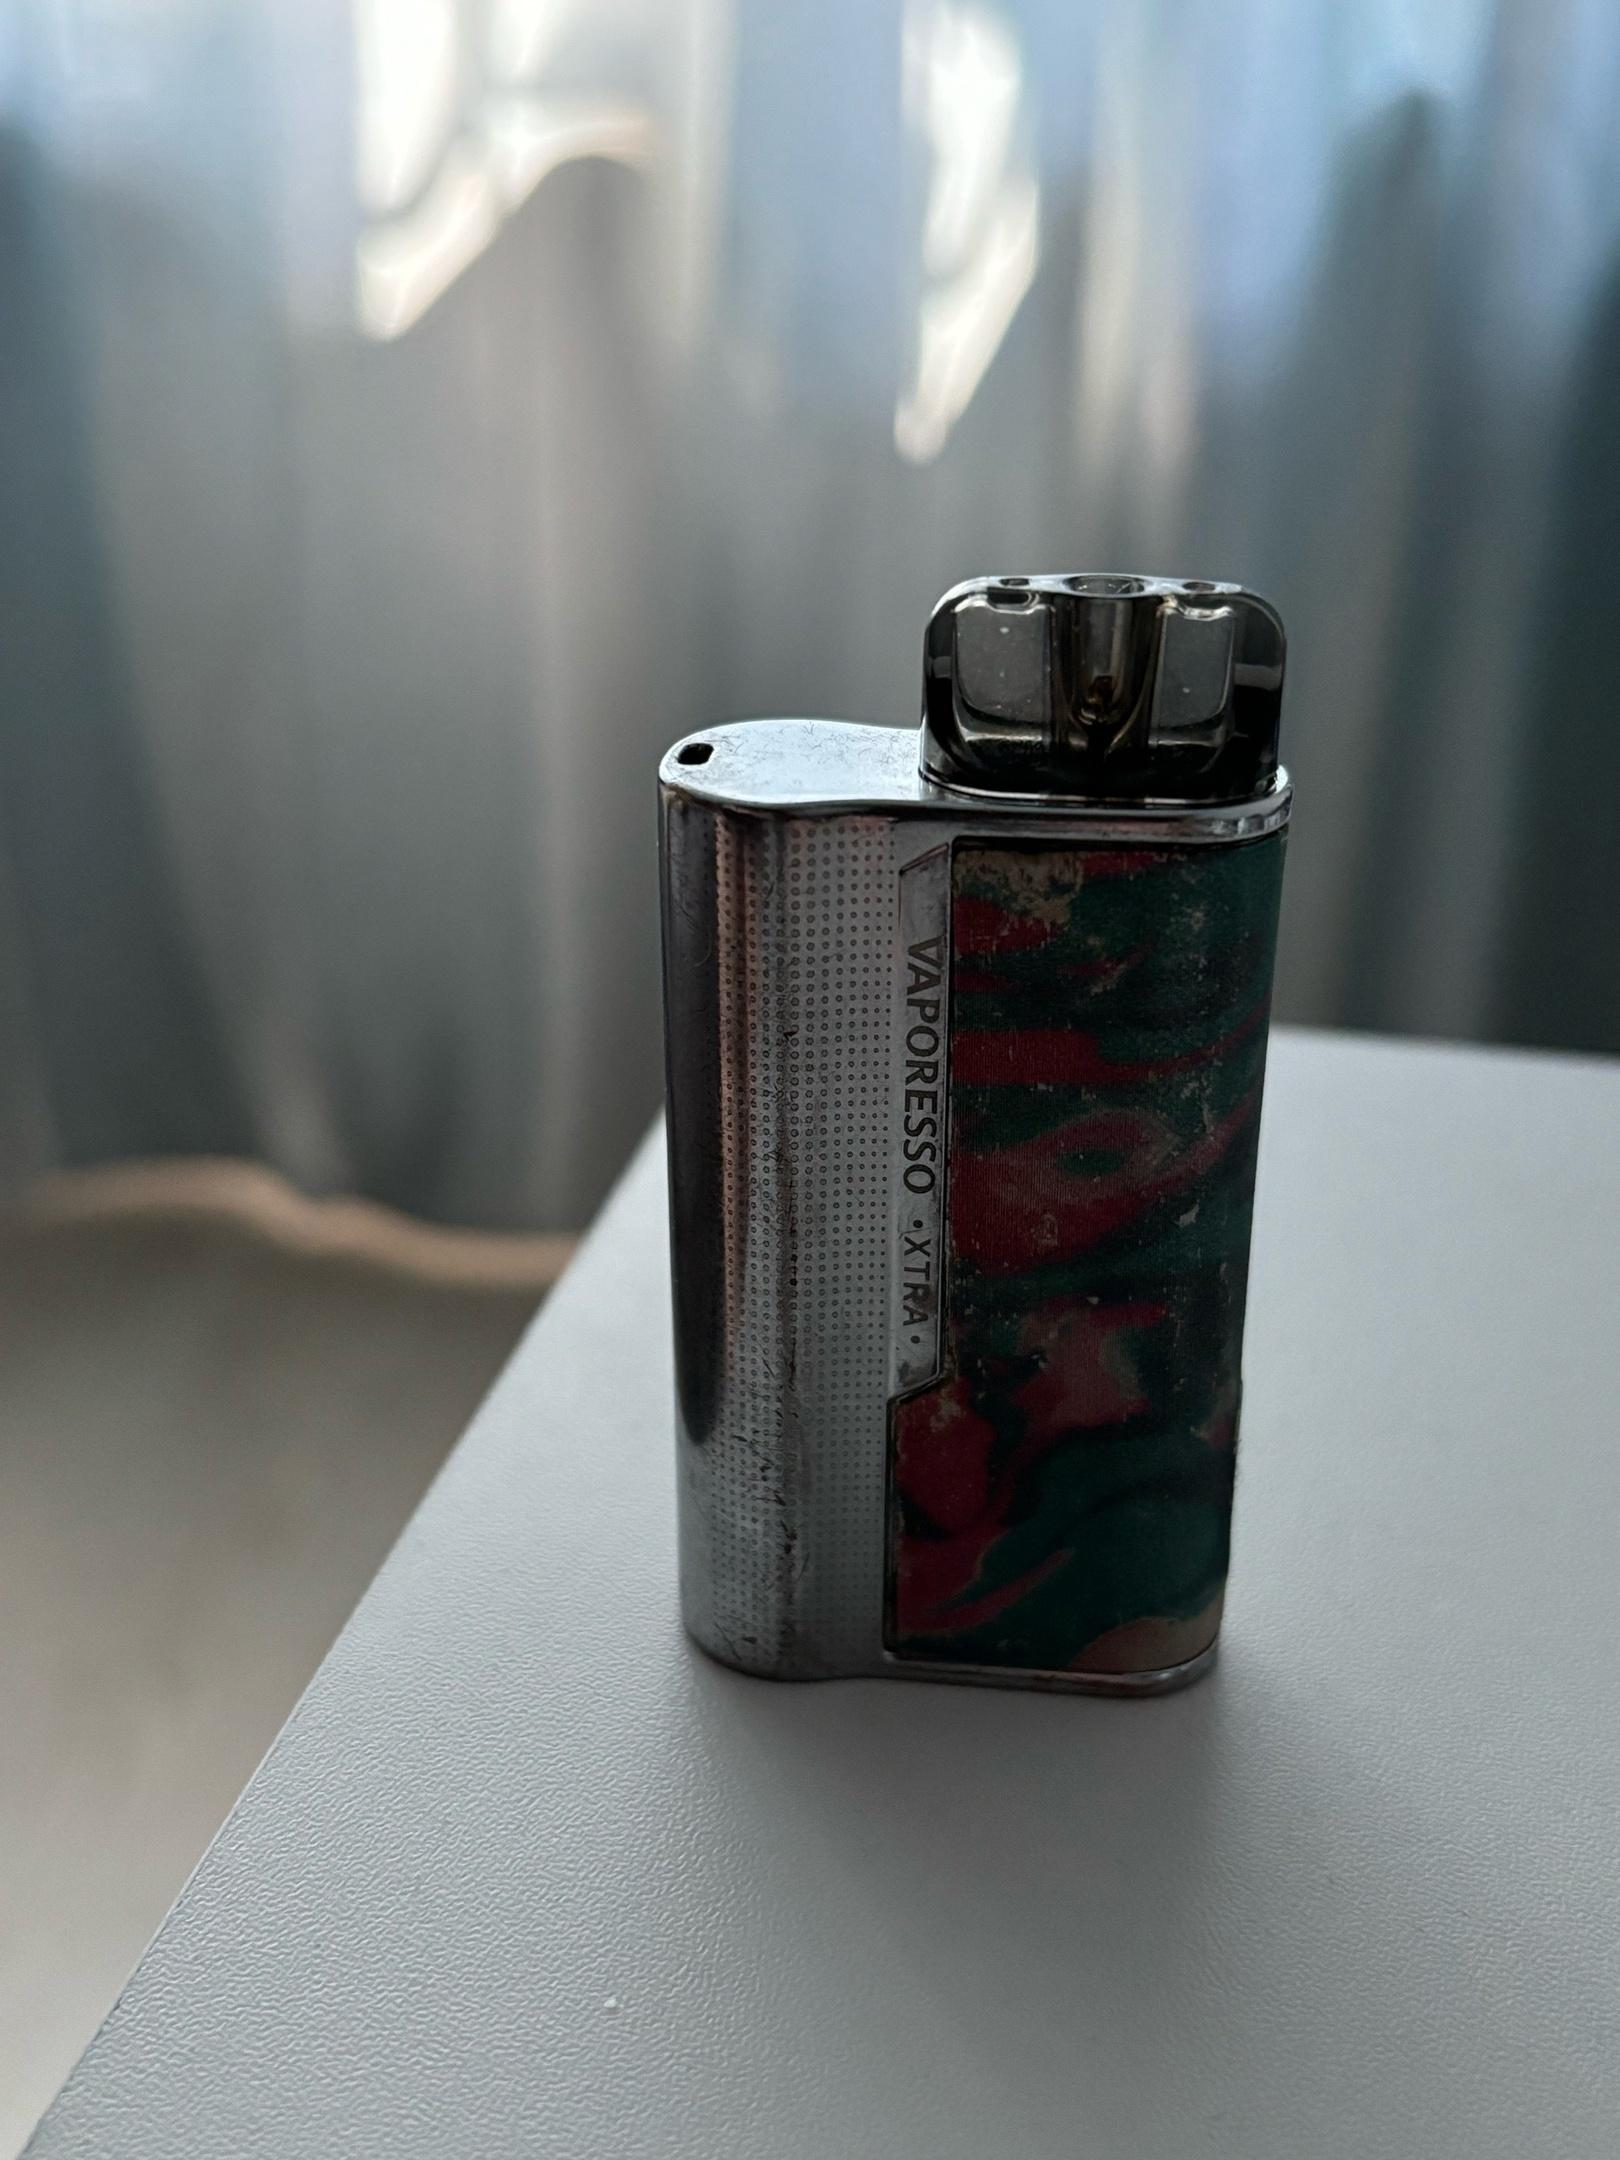Vape: (660, 575, 1290, 1689)
